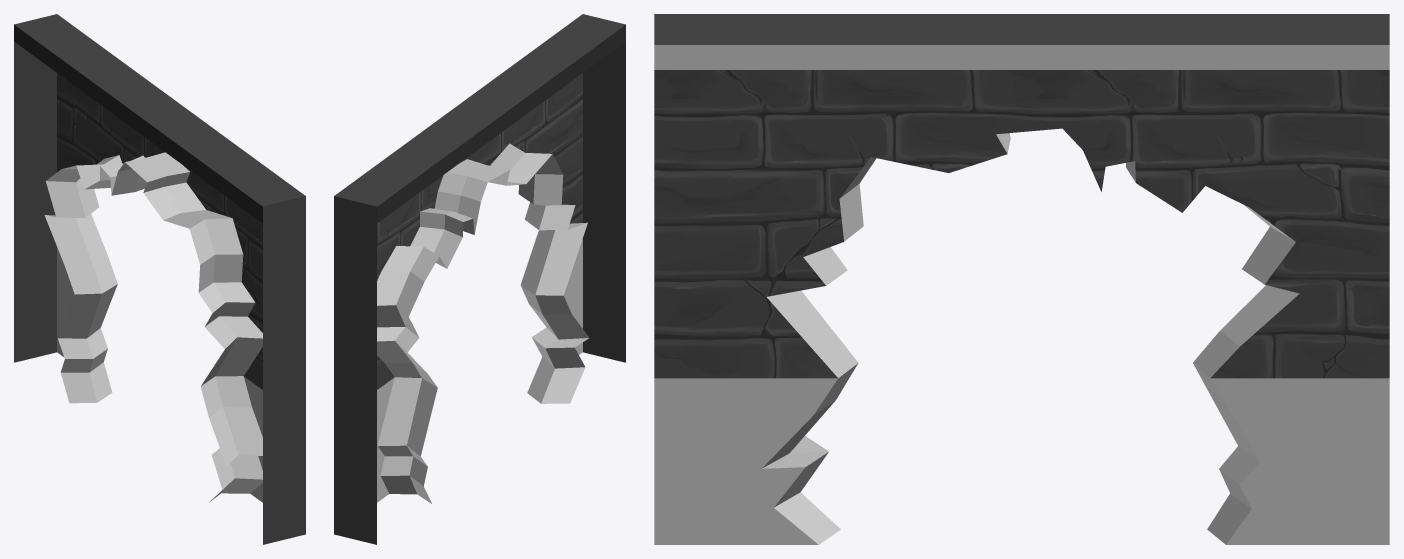
The model's file is SM_ModularKit_Breach.fbx.
3 renders of one model, left to right at view 1: azimuth 30°, elevation 25°; view 2: azimuth 150°, elevation 25°; view 3: azimuth 270°, elevation 25°, orthographic. The views are drawn at different scales.
Visible parts, largest first — view 1: Breach; view 2: Breach; view 3: Breach.
Boxes of the visible parts, <box> form: Breach: <box>14,14,305,544</box>; Breach: <box>334,14,625,544</box>; Breach: <box>654,14,1389,544</box>.
Bounding box in the file's own units: 40 × 300 × 400.
